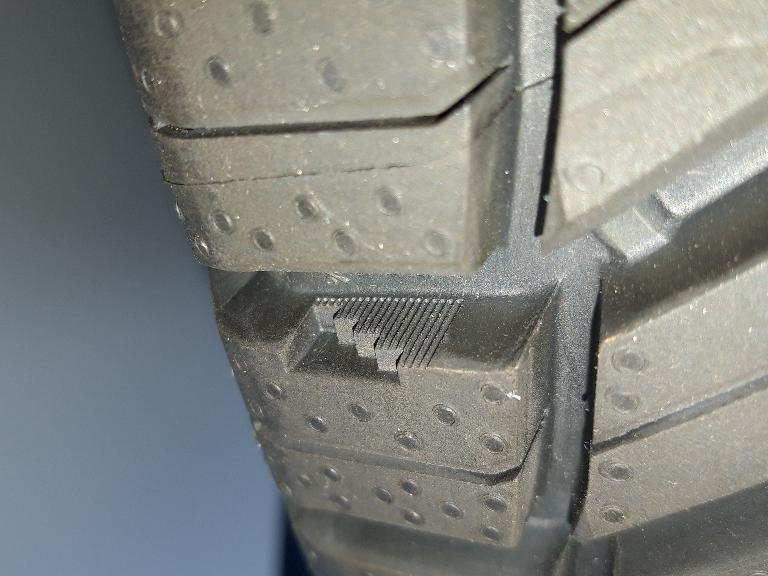temoin:100: (279, 295, 462, 390)
